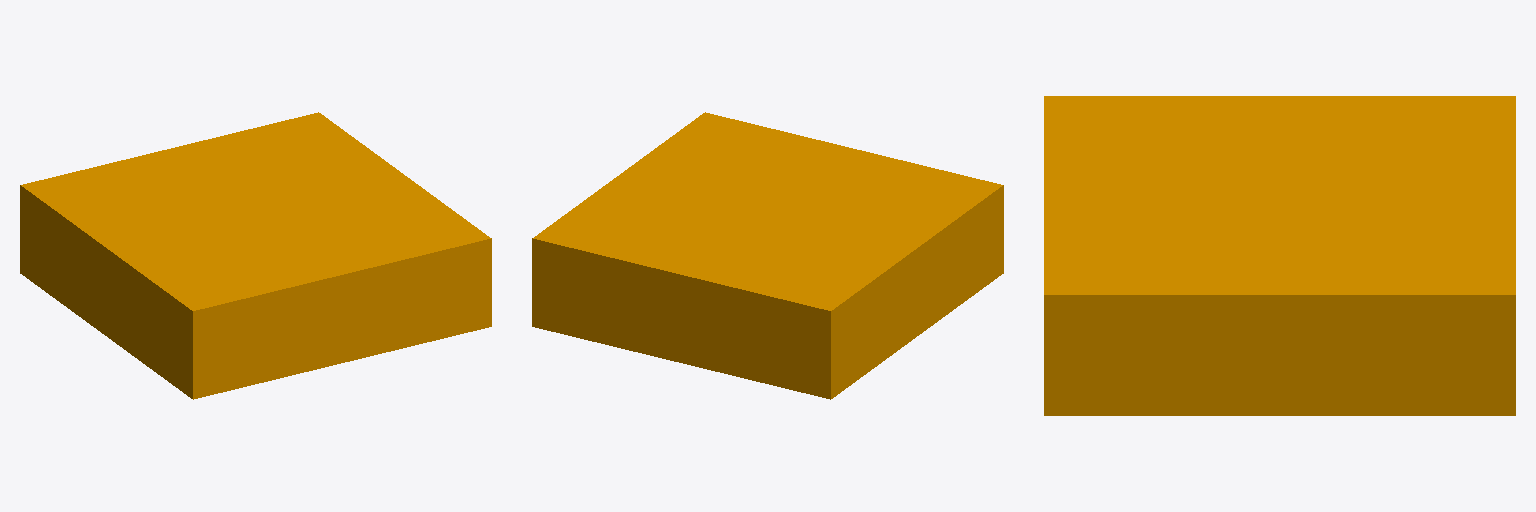
The robot description file, URDF, robot "cube":
<robot name="cube">
    <link name="cube">
        <contact>
            <lateral_friction value="0.1" />
        </contact>
        <inertial>
            <origin xyz="0 0 -0.1" rpy="0 0 0" />
            <mass value="0.2" />
            <inertia ixx="0" ixy="0" ixz="0" iyy="0" iyz="0" izz="0" />
        </inertial>
        <visual>
            <origin xyz="0 0 0" rpy="0 0 0" />
            <geometry>
                <mesh filename="3.stl" scale="0.001 0.001 0.001"/>
            </geometry>
        </visual>
        <collision>
            <origin xyz="0 0 0" rpy="0 0 0" />
            <geometry>
               <mesh filename="3.stl" scale="0.001 0.001 0.001"/>
            </geometry>
        </collision>
    </link>
</robot>

--- Facts derived from the render (not from the file) ---
Views: 3 orthographic renders of the robot side by side, from view 1: azimuth 30°, elevation 25°; view 2: azimuth 150°, elevation 25°; view 3: azimuth 270°, elevation 25°.
Model cube with 1 links and 0 joints (none), rooted at cube, posed every joint at zero.
Links seen in each view (by area): view 1: cube; view 2: cube; view 3: cube.
Boxes of the visible links, left/top/right/bottom form: cube: left=20, top=112, right=491, bottom=399; cube: left=532, top=112, right=1003, bottom=399; cube: left=1044, top=96, right=1515, bottom=415.
Bounding box of the posed robot: 0.0354 × 0.0354 × 0.01 m (x, y, z).
Meshes: 1 distinct files referenced, 1 mesh visuals loaded (1 binary STL).